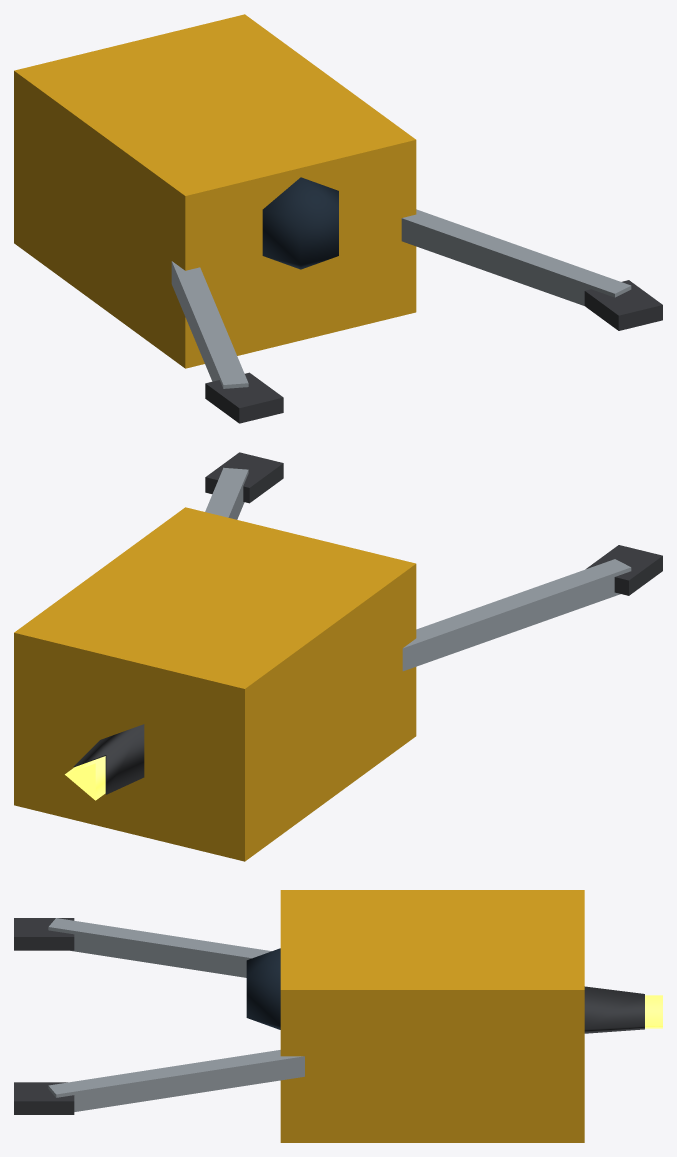
Rendered from space_ship_builder_drone_mk2_lod2.glb.
3 renders of one model, top to bottom at view 1: azimuth 30°, elevation 25°; view 2: azimuth 150°, elevation 25°; view 3: azimuth 270°, elevation 25°, orthographic. The views are drawn at different scales.
Parts seen in each view (by area): view 1: body, arm_1, arm_0; view 2: body, arm_0, engine_0, arm_1; view 3: body, arm_1, arm_0, engine_0.
Part boxes in pixels (left/top/right/bottom): body: left=14, top=14, right=416, bottom=368; arm_1: left=401, top=209, right=662, bottom=330; arm_0: left=171, top=261, right=283, bottom=423; body: left=14, top=507, right=416, bottom=861; arm_0: left=402, top=545, right=662, bottom=671; engine_0: left=65, top=724, right=144, bottom=800; arm_1: left=205, top=452, right=283, bottom=519; body: left=246, top=890, right=584, bottom=1142; arm_1: left=14, top=1050, right=304, bottom=1114; arm_0: left=14, top=918, right=271, bottom=977; engine_0: left=584, top=986, right=662, bottom=1033.
Size of the model in its own units: 2.88 by 1.12 by 4.3.
